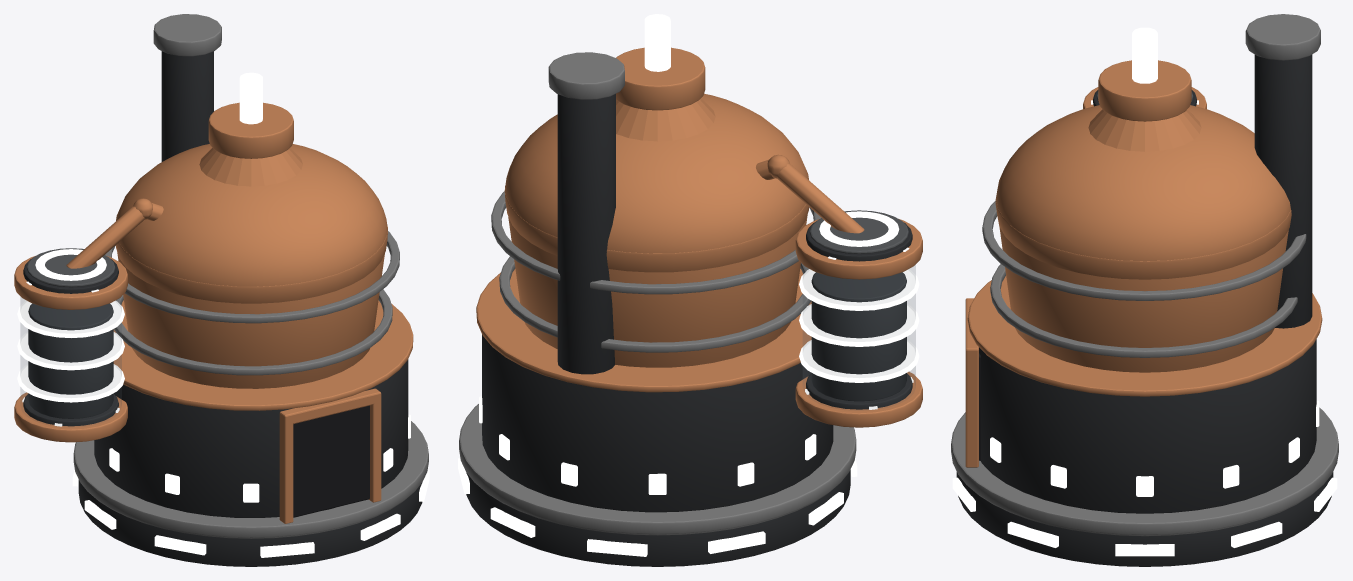
Rendered from Skin_Distillery_T1.glb.
3 renders of one model, left to right at view 1: azimuth 30°, elevation 25°; view 2: azimuth 150°, elevation 25°; view 3: azimuth 270°, elevation 25°, orthographic. The views are drawn at different scales.
Visible parts, largest first — view 1: Skin_Distillery_T1; view 2: Skin_Distillery_T1; view 3: Skin_Distillery_T1.
Boxes of the visible parts, x1,y1,x2,y2 form: Skin_Distillery_T1: (14, 14, 429, 566); Skin_Distillery_T1: (458, 14, 922, 566); Skin_Distillery_T1: (951, 14, 1338, 566).
Bounding box in the file's own units: 4.36 × 4.57 × 3.5.
